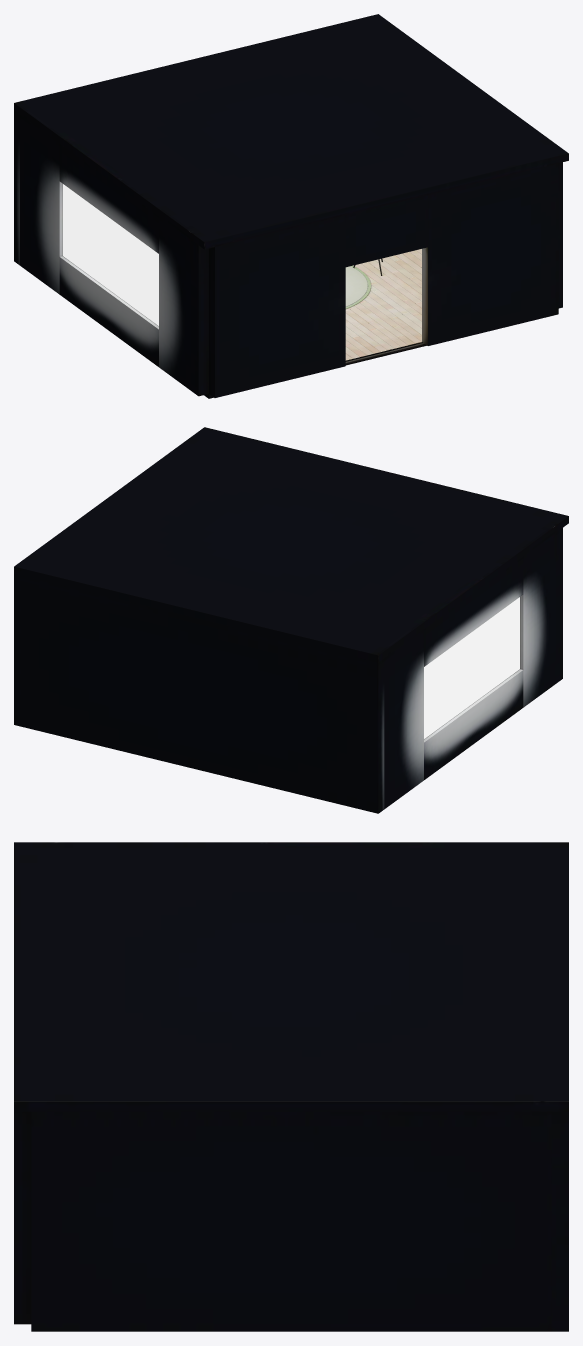
The model's file is room_birds_m.glb.
The picture shows the model from 3 angles, top to bottom: view 1: azimuth 30°, elevation 25°; view 2: azimuth 150°, elevation 25°; view 3: azimuth 270°, elevation 25°; orthographic projection. The views are drawn at different scales.
Visible parts, largest first — view 1: baked_ceiling, baked_walls, window_glass, baked_floor, baked_furn; view 2: baked_walls, baked_ceiling, window_glass; view 3: baked_ceiling, baked_walls.
Boxes of the visible parts, bbox=[...] form: baked_ceiling: bbox=[14, 14, 568, 249]; baked_walls: bbox=[14, 110, 562, 397]; window_glass: bbox=[63, 184, 158, 325]; baked_floor: bbox=[204, 249, 426, 398]; baked_furn: bbox=[345, 258, 382, 308]; baked_walls: bbox=[14, 528, 562, 813]; baked_ceiling: bbox=[14, 427, 568, 662]; window_glass: bbox=[424, 597, 519, 738]; baked_ceiling: bbox=[14, 842, 568, 1111]; baked_walls: bbox=[14, 1111, 568, 1331].
Bounding box in the file's own units: 10.6 × 4.54 × 9.6.
6 materials, 4 textured.
